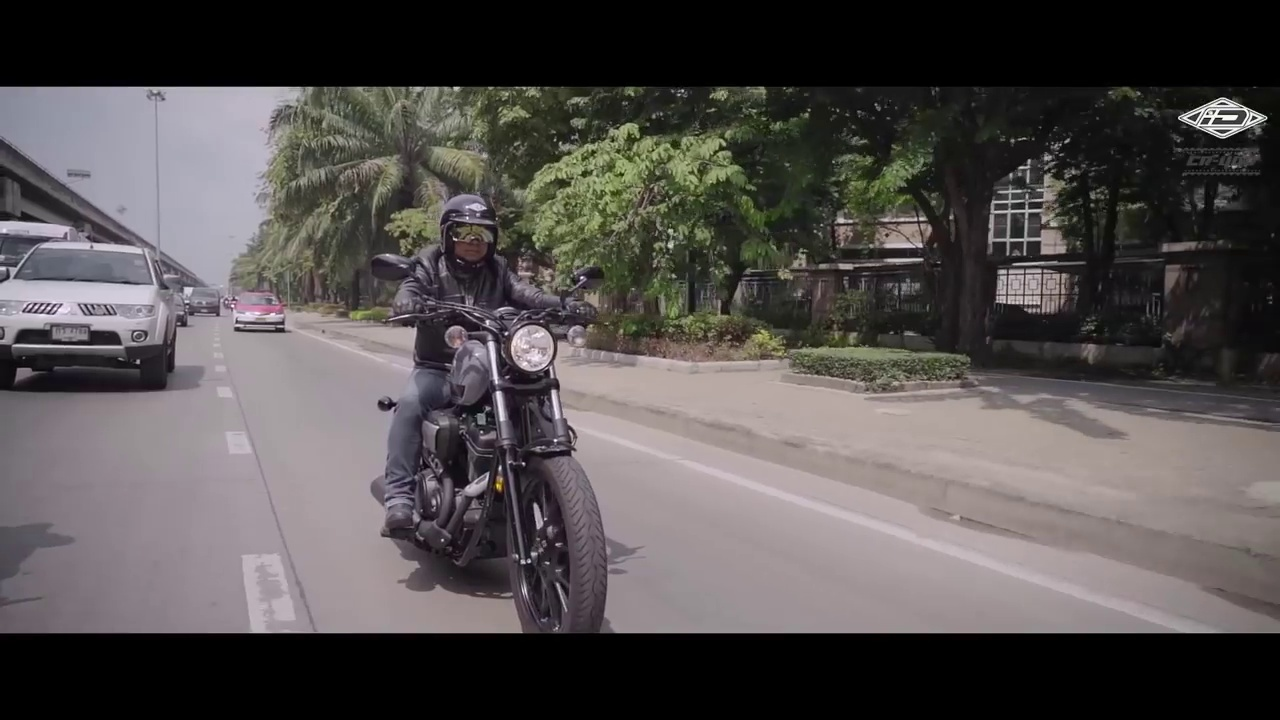helmet: (433, 193, 506, 268)
